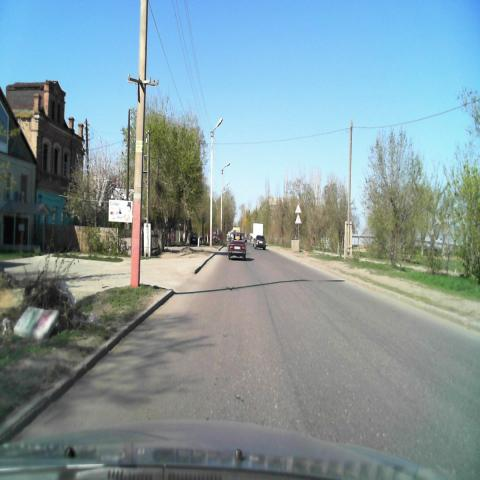1_12_2: (294, 202, 302, 214)
1_22: (294, 213, 302, 224)
